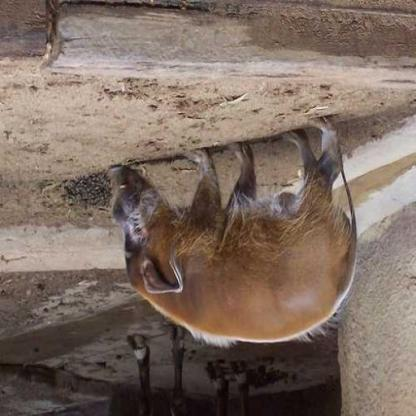boar: (113, 140, 399, 373)
